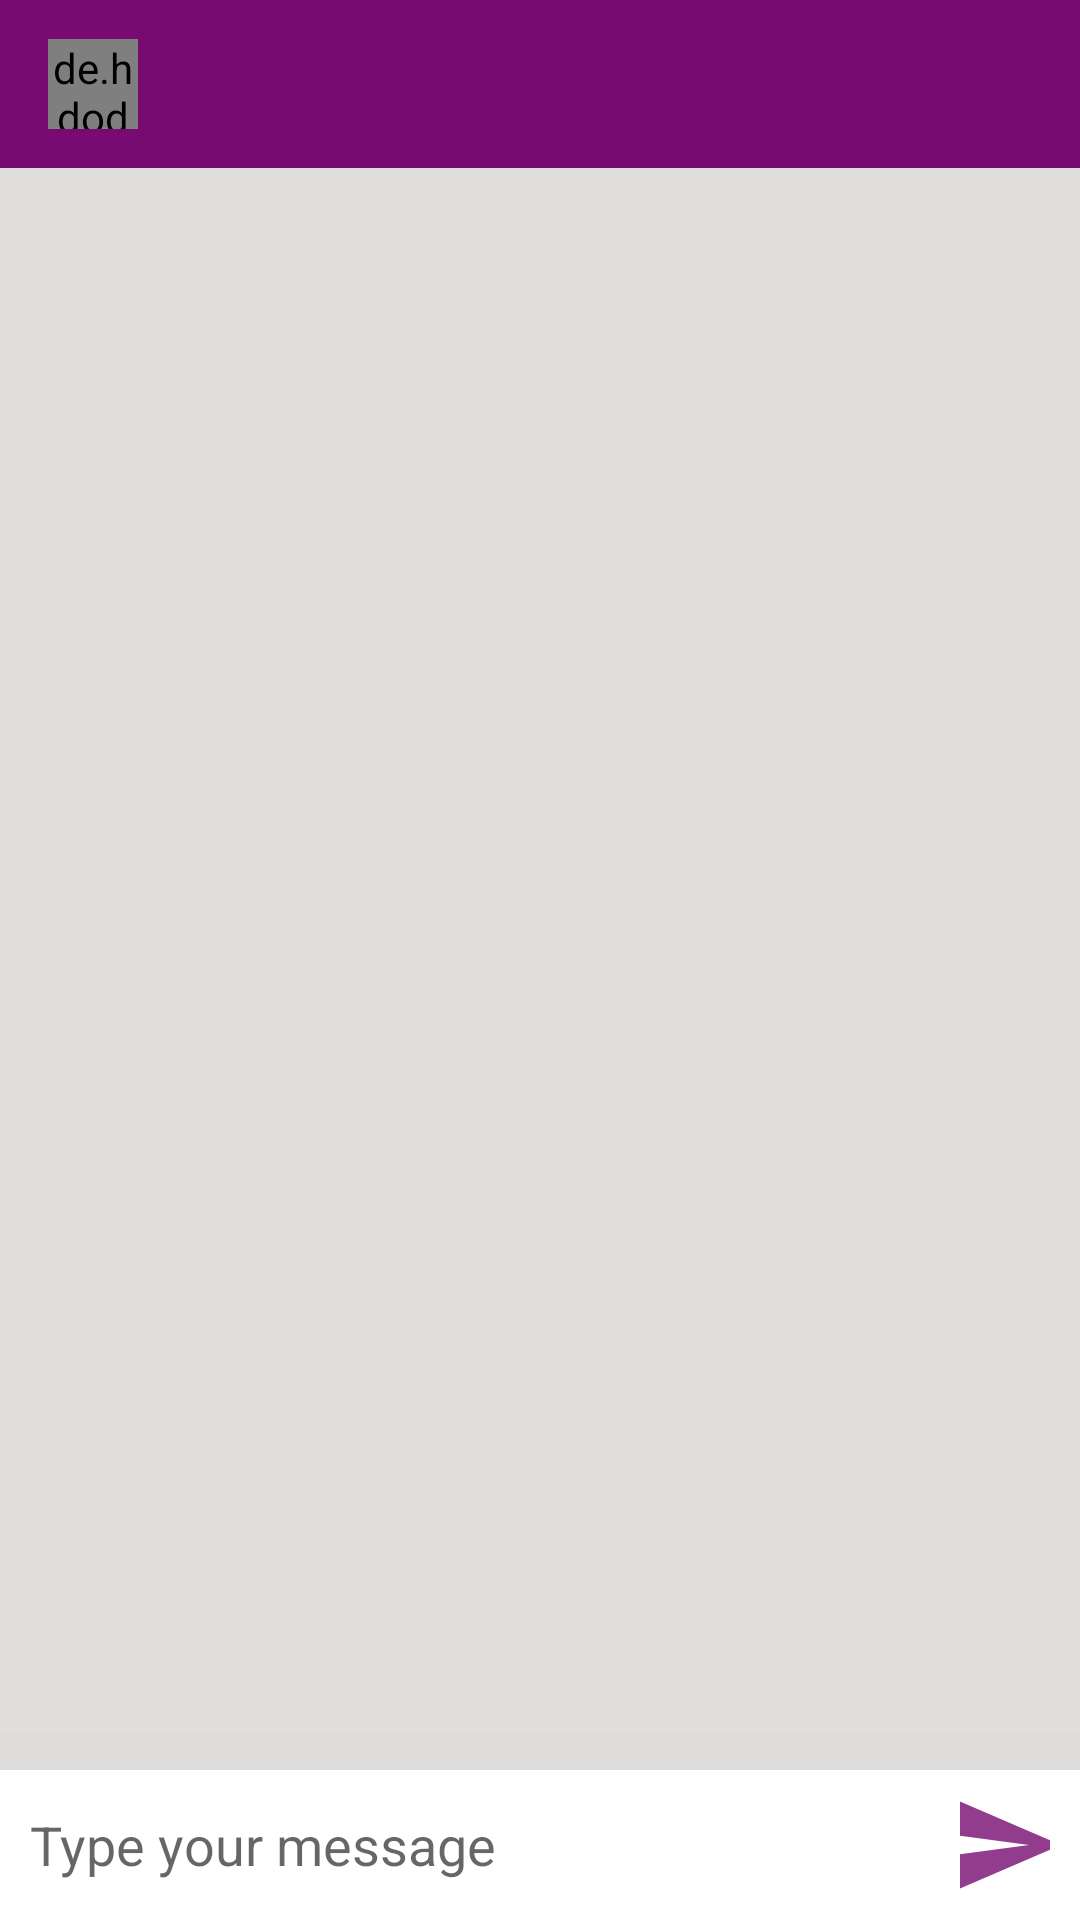

Icon click points for this 1080px×1920px phone screenshot, format (x=x, y=y):
send message: (x=1005, y=1845)
